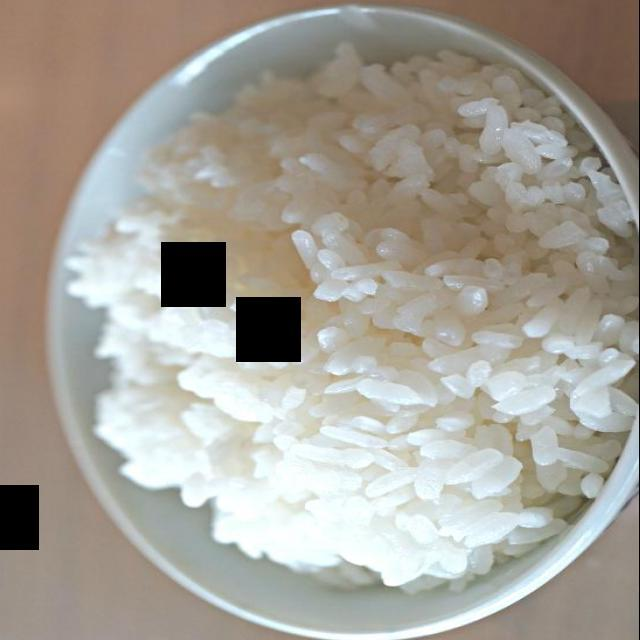rice: (67, 39, 640, 596)
